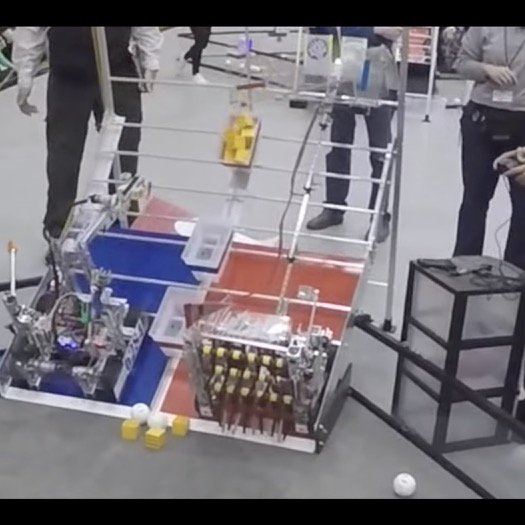robot: (1, 169, 154, 391), (178, 298, 337, 446)
